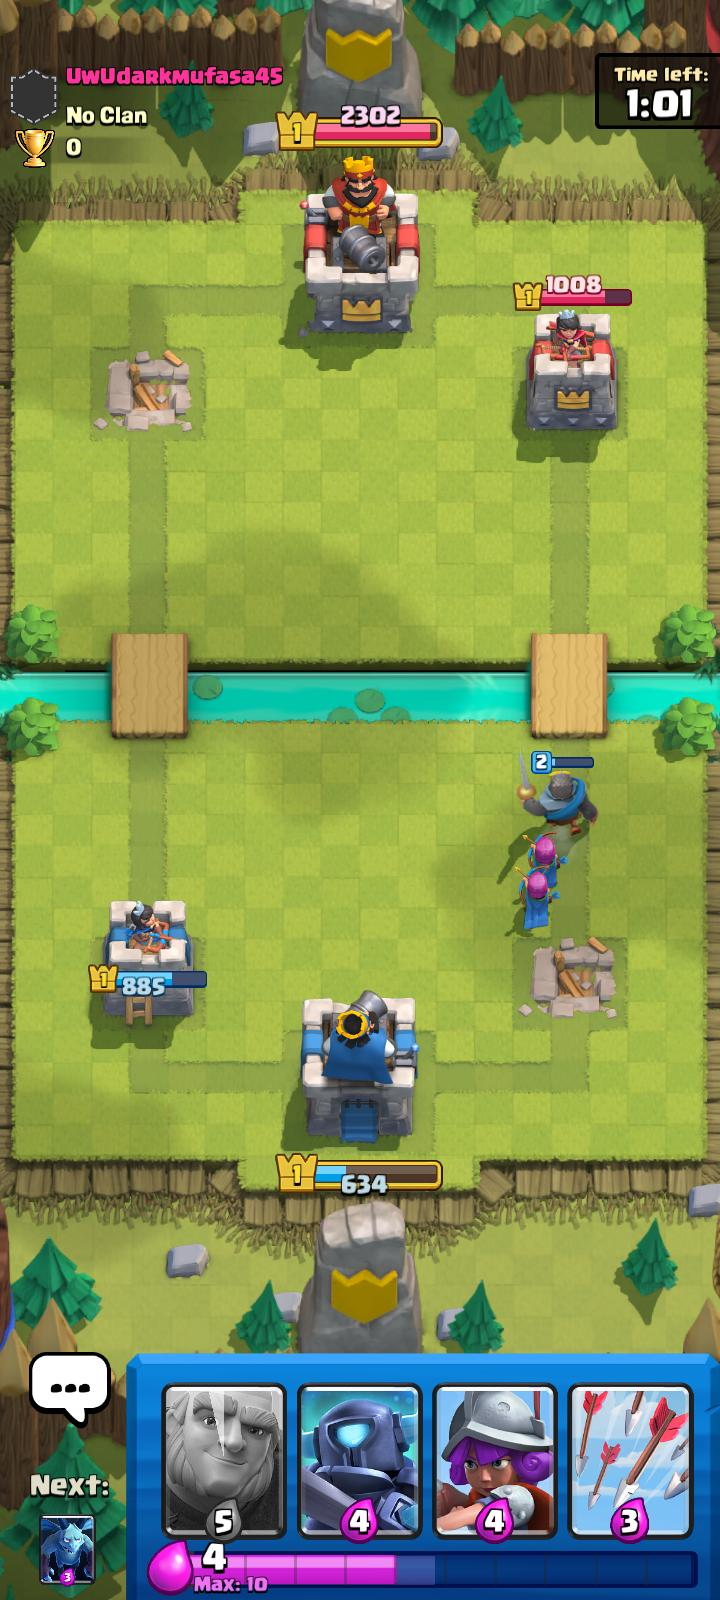archere: (516, 863, 553, 923), (532, 834, 567, 891)
chevalier: (518, 762, 604, 850)
